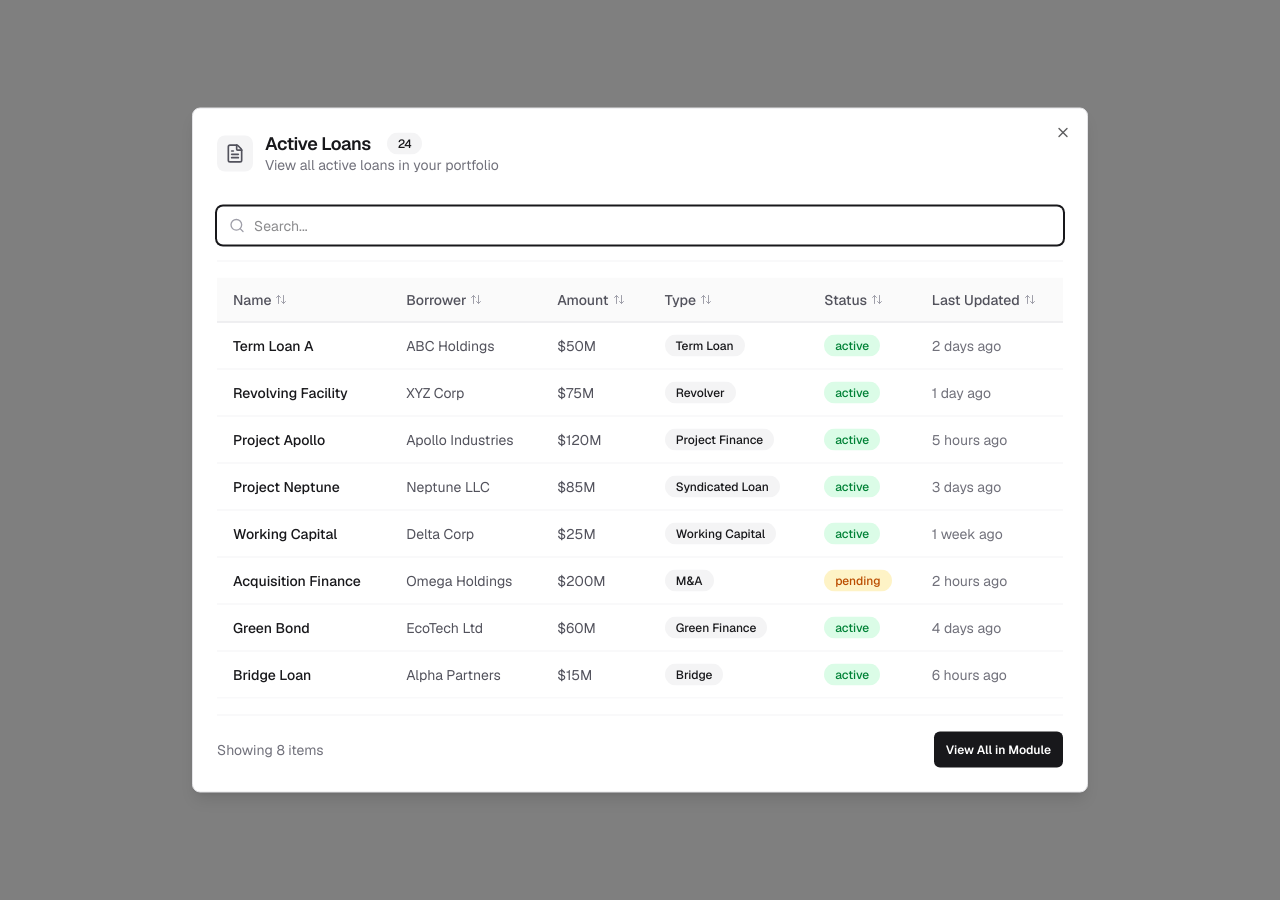
Scenario: StatDrilldownModal › Sorting functionality › toggles to descending sort on second click
The width and height of the screenshot is (1280, 900).
Click the column heading with test id "sort-column-0": (252, 300) top-left (217, 278), bottom-right (390, 322)
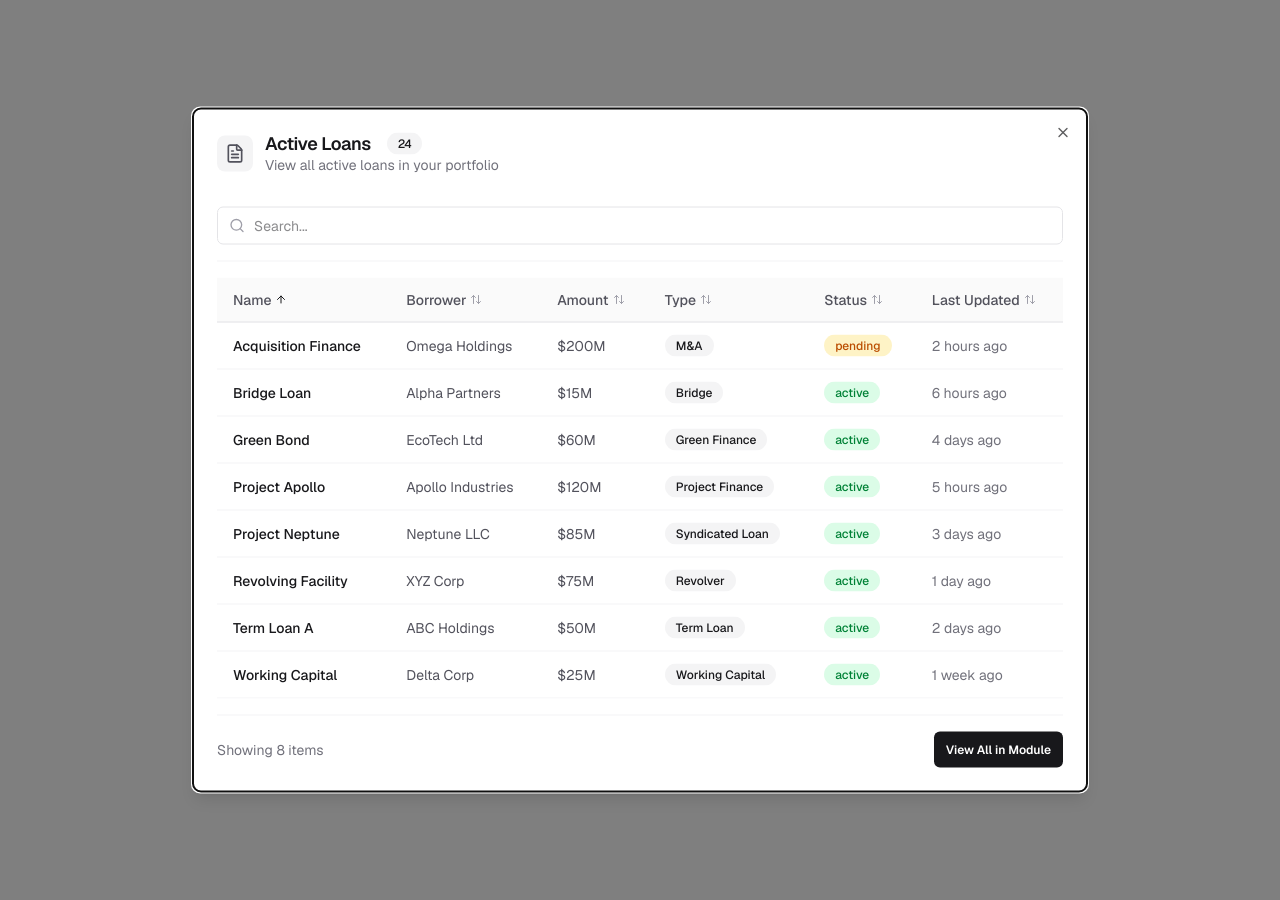
Click the column heading with test id "sort-column-0": (252, 300) top-left (217, 278), bottom-right (390, 322)
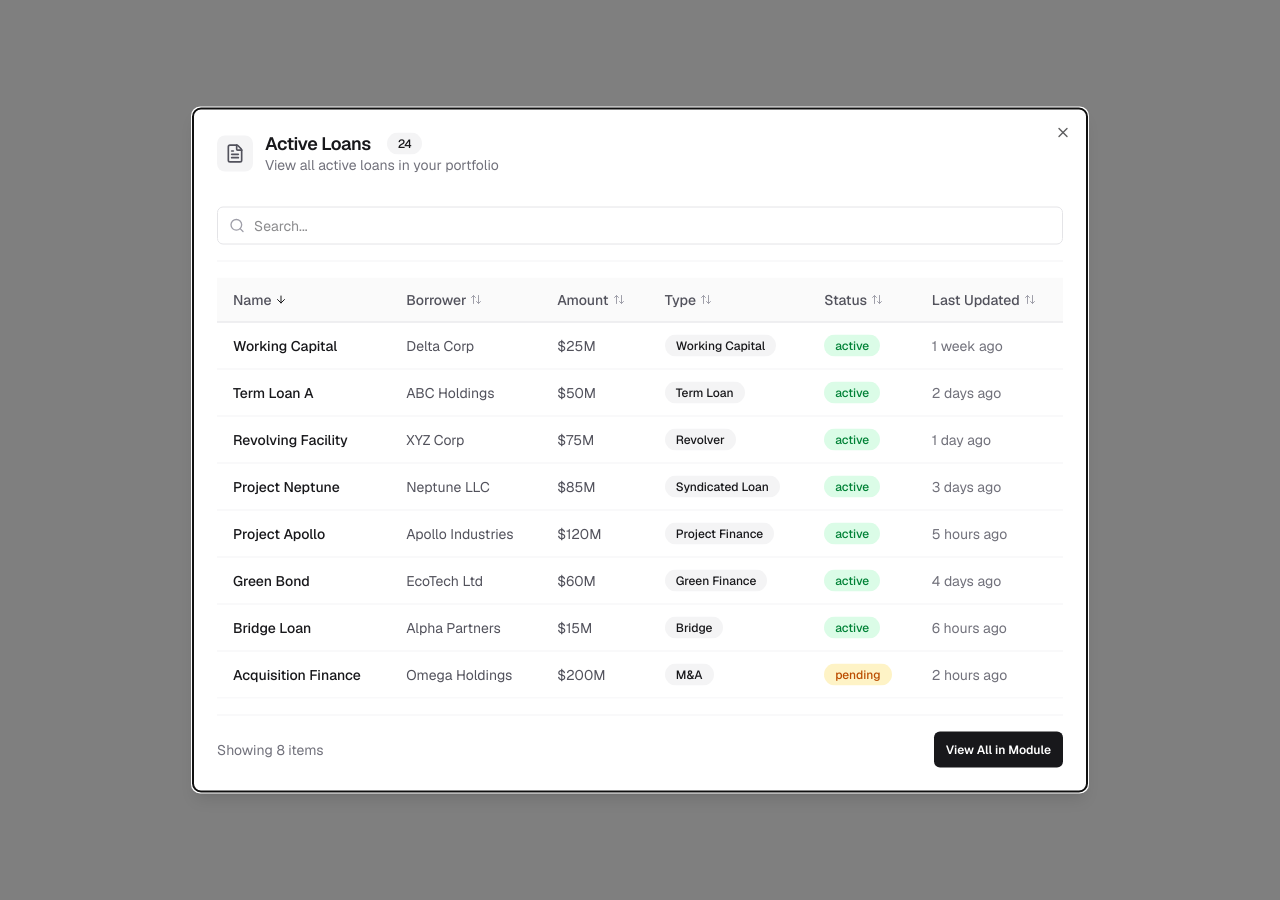
Check: the icon with test id "sort-desc-0" is shown, box top-left (276, 294), bottom-right (288, 306)
